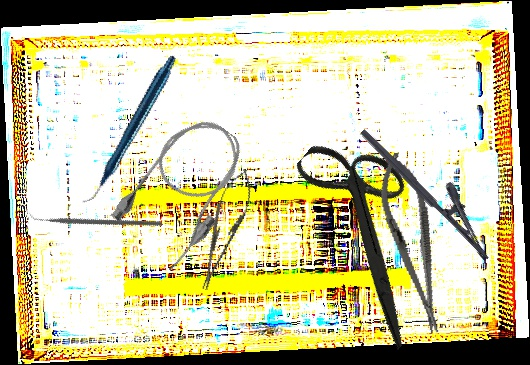Cannula: (104, 104, 264, 276)
Chopper: (27, 154, 163, 281)
Handpiece: (42, 54, 215, 204)
Iris Scissors: (245, 116, 488, 353)
Needle Holder: (359, 110, 508, 264), (370, 148, 456, 339), (189, 164, 260, 295)
